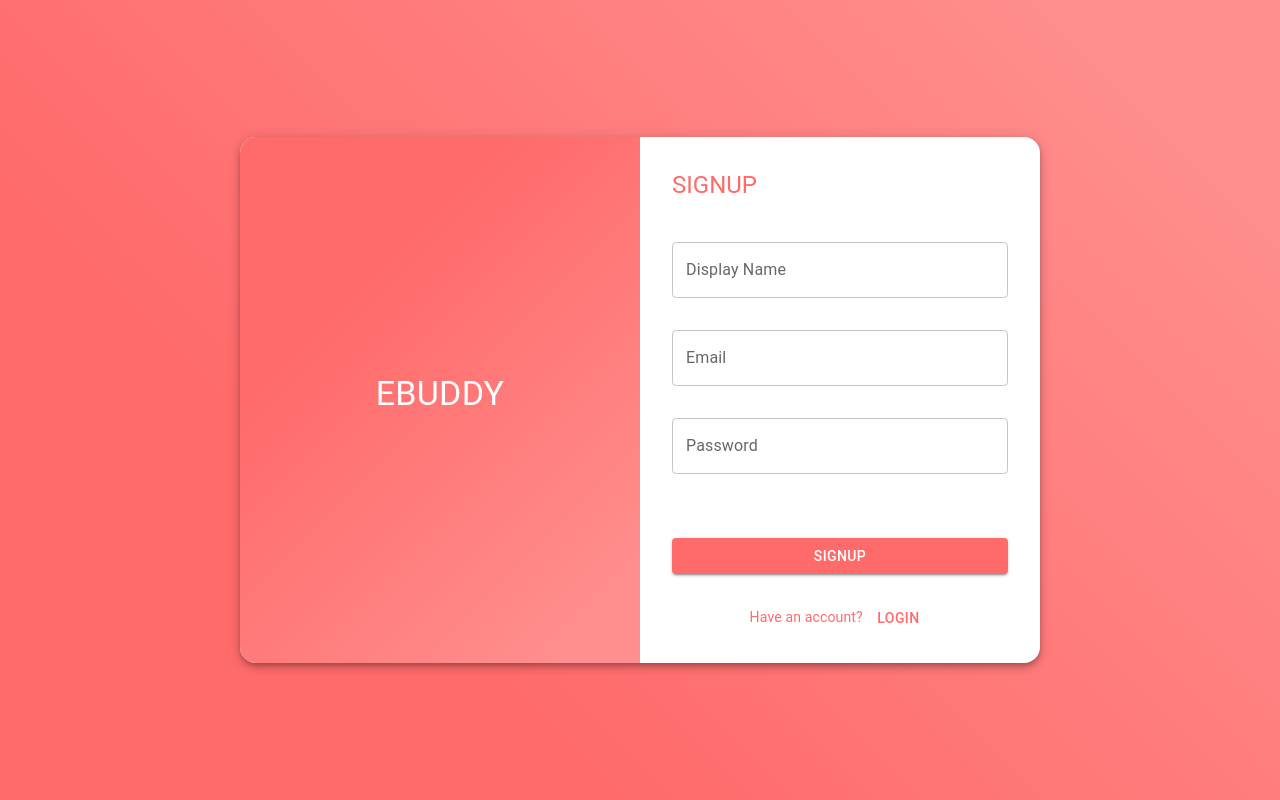
Test: SignupPage Component › displays an error message when API returns an error
The width and height of the screenshot is (1280, 800).
In the field labelled "Display Name": point(840, 270) [672,242,1008,298], type "Test User"
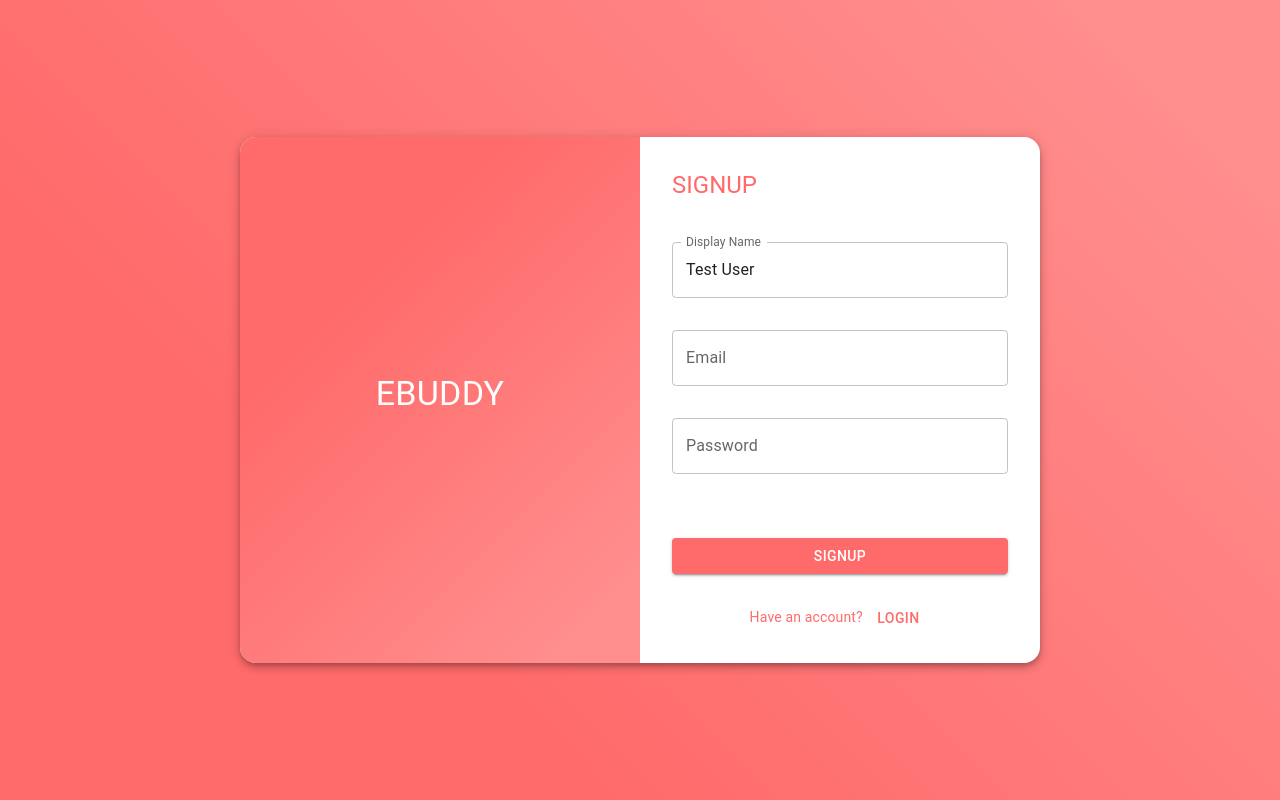
In the field labelled "Email": point(840, 358) [672,330,1008,386], type "test@example.com"
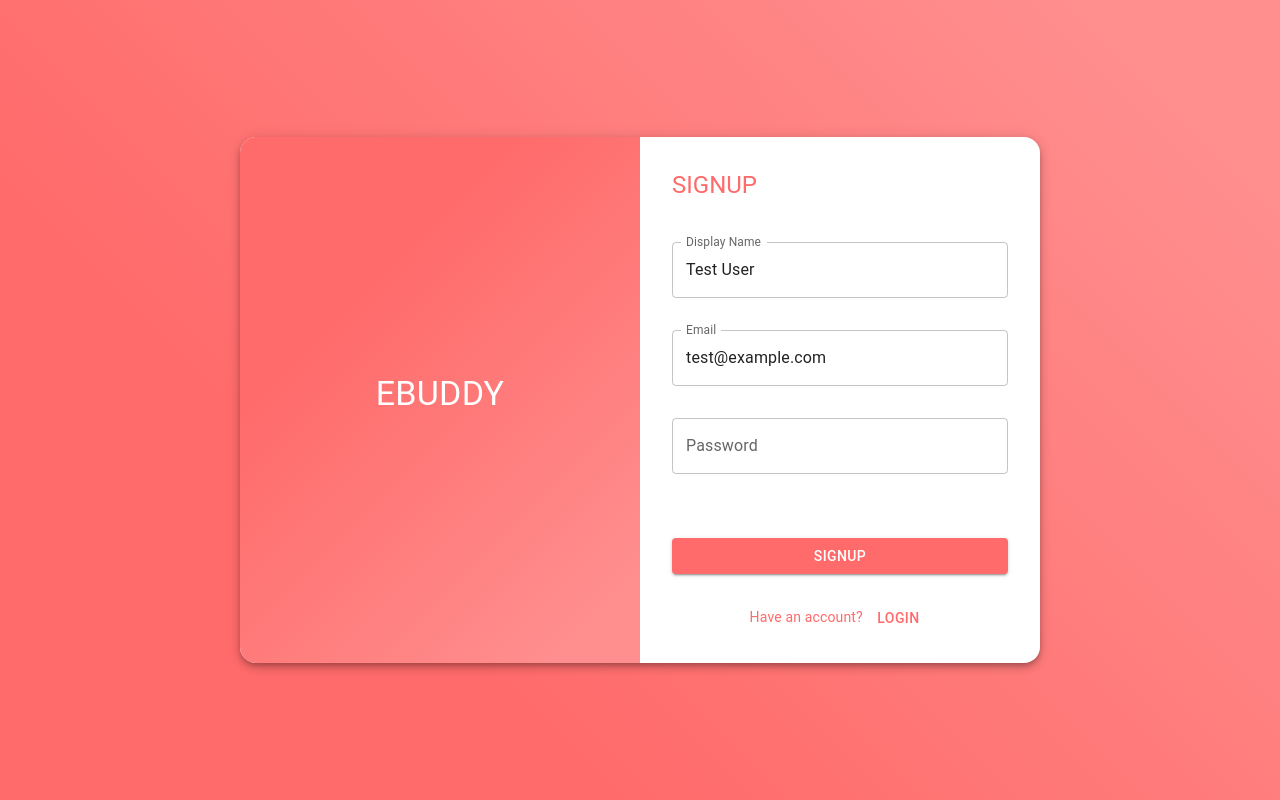
In the password field labelled "Password": point(840, 446) [672,418,1008,474], type "password123"
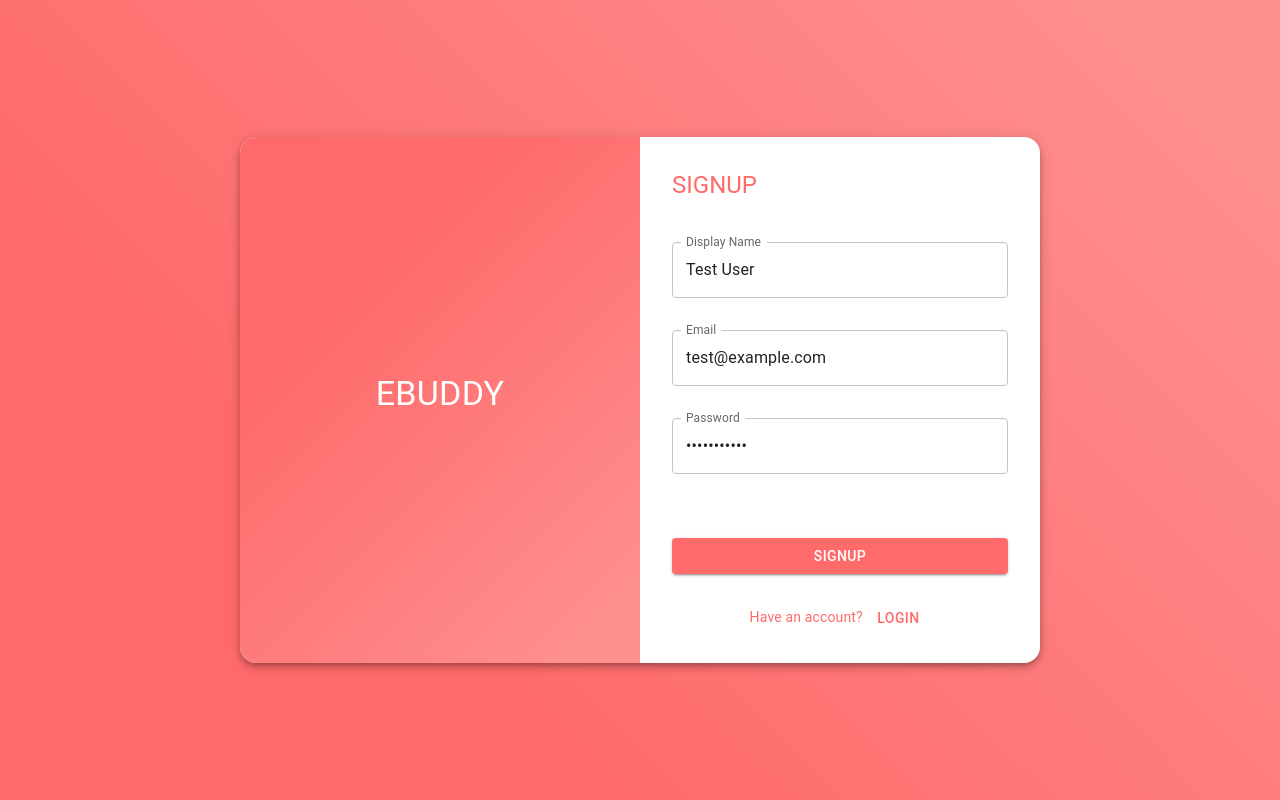
Click the button "SIGNUP": point(840, 556) [672,538,1008,574]
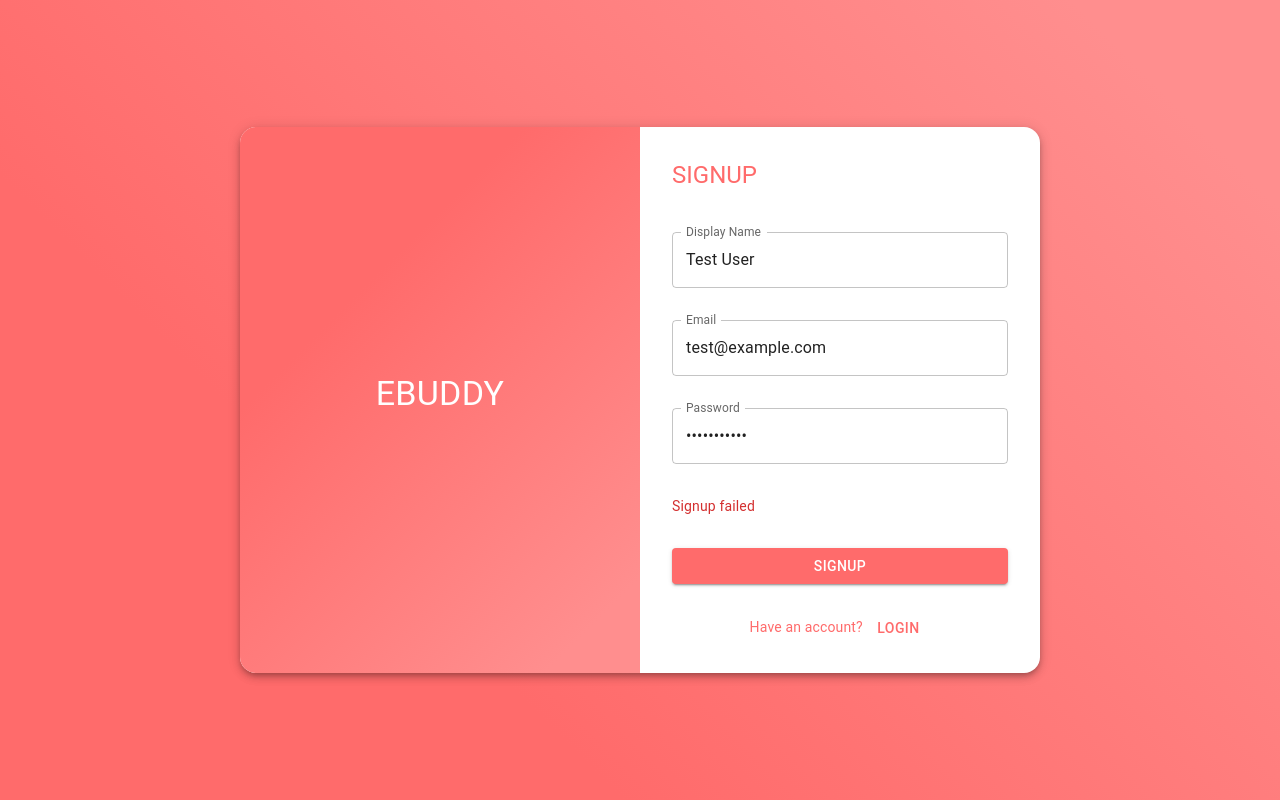
Check: the text "Signup failed" is shown, box [672,498,755,514]
